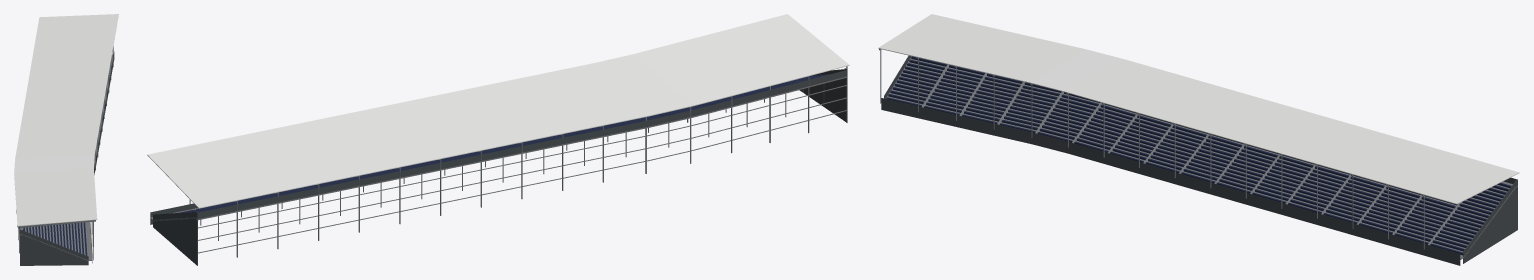
Rendered from sil_stand_woodcote_a.glb.
3 views of the same model, side by side, from view 1: azimuth 30°, elevation 25°; view 2: azimuth 150°, elevation 25°; view 3: azimuth 270°, elevation 25° (orthographic). The views are drawn at different scales.
Visible parts, largest first — view 1: silverstone-woodcote-a; view 2: silverstone-woodcote-a; view 3: silverstone-woodcote-a.
Part boxes in pixels (<box>): silverstone-woodcote-a: <box>14,14,118,265</box>; silverstone-woodcote-a: <box>147,14,849,265</box>; silverstone-woodcote-a: <box>878,14,1519,265</box>.
Size of the model in its own units: 85.34 by 12.96 by 117.
